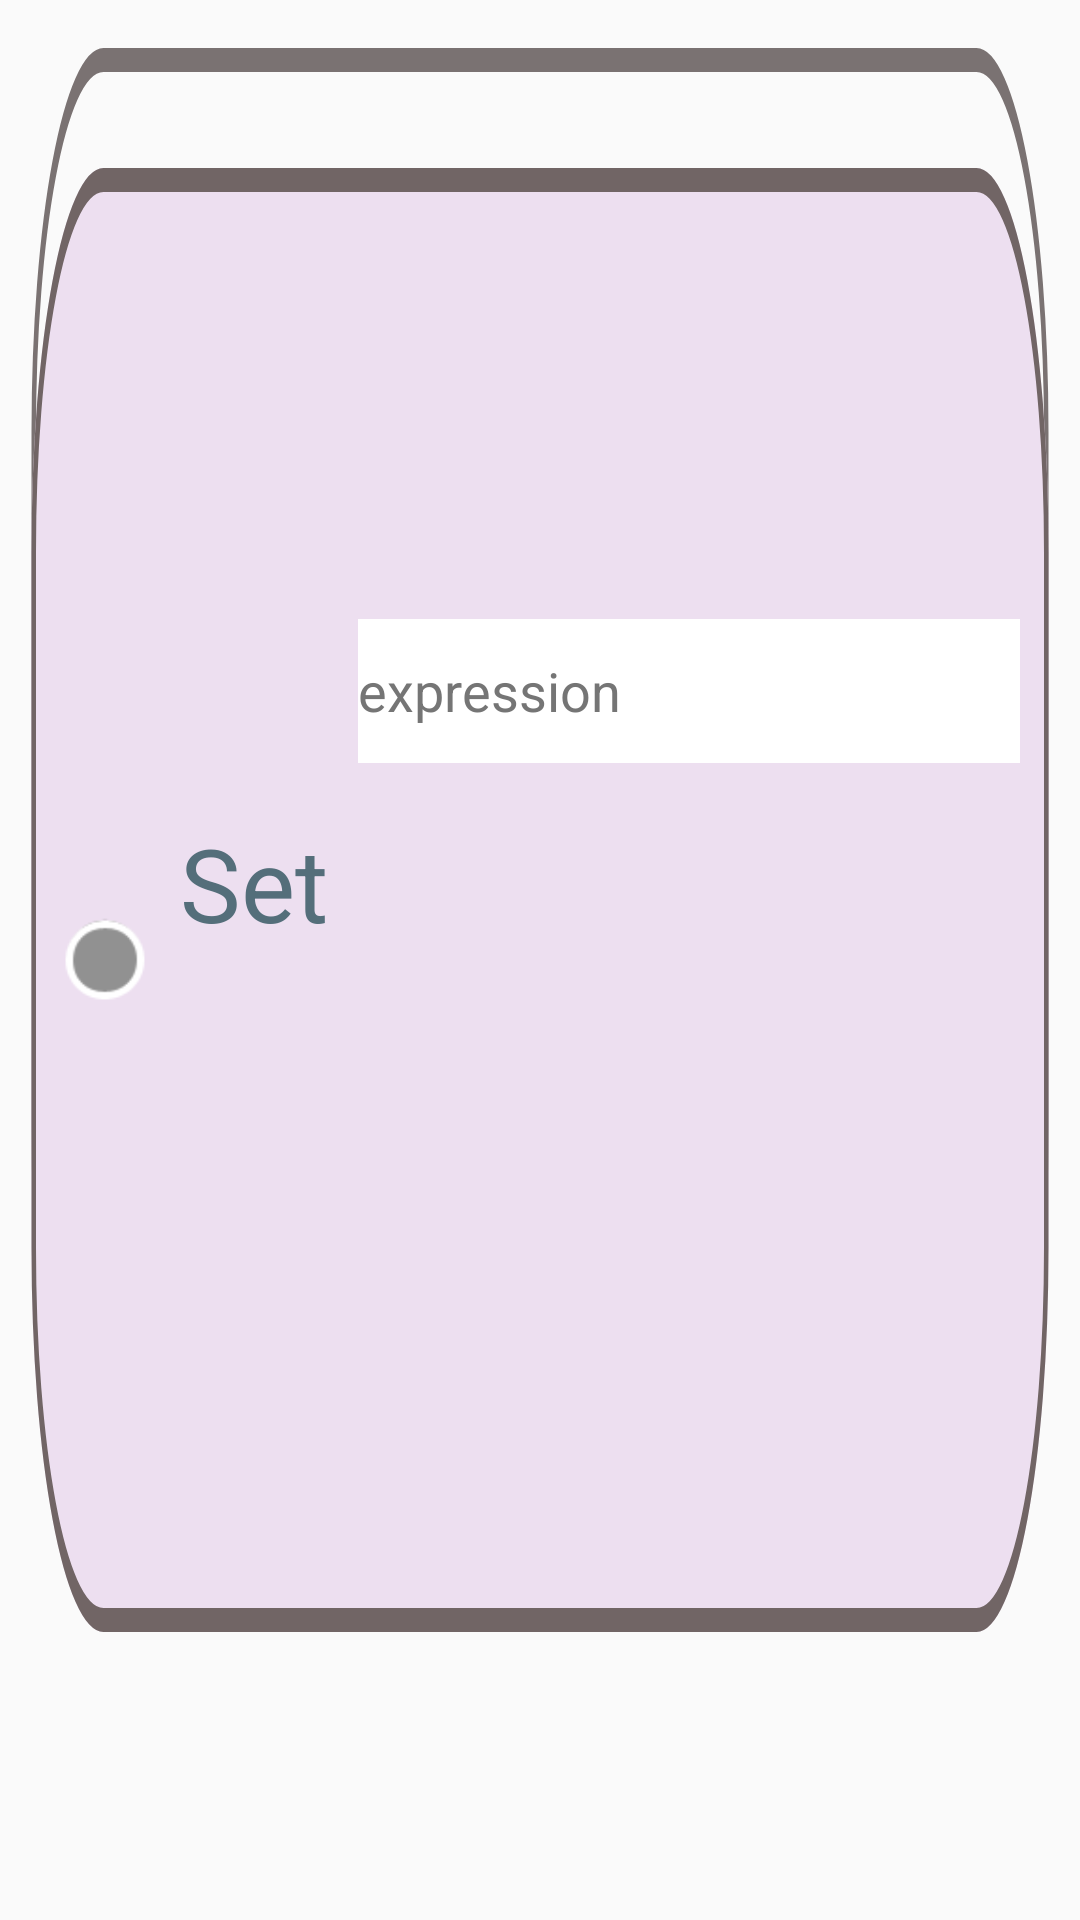

Point at icon controls on the screen. Image size 1080px x 1920px, points as (x,y).
presence invisible: (105,960)
